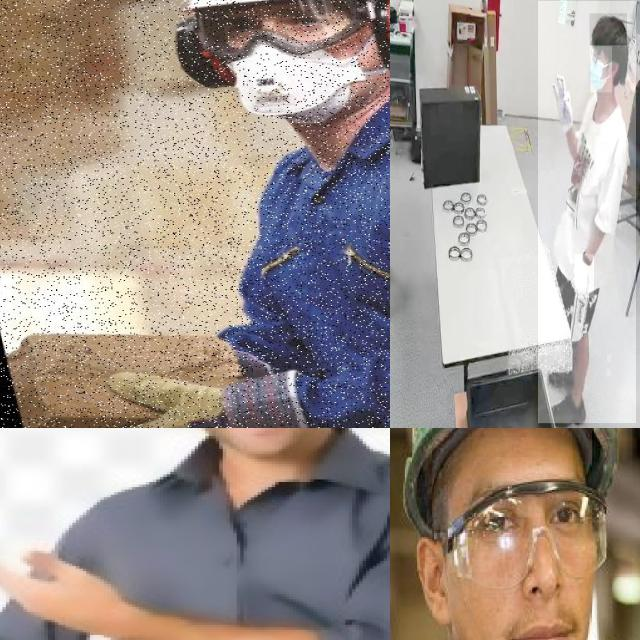Ear-protection: (148, 0, 390, 139)
No_Ear-Protection: (410, 541, 453, 634)
face_mask: (590, 46, 612, 92)
face_nomask: (454, 536, 592, 640)
glasses: (436, 481, 606, 588)
hand_glove: (550, 75, 576, 149), (574, 254, 594, 299)
head_nohelmet: (590, 14, 628, 46)
person: (538, 1, 636, 424)
shoes: (546, 391, 589, 428)
